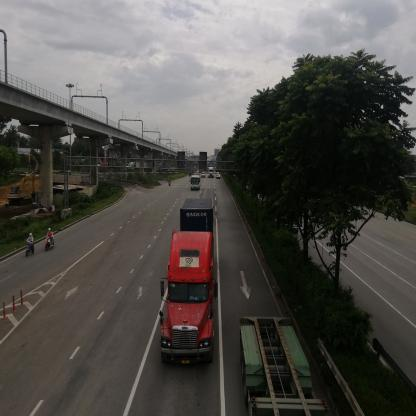bus: (190, 177, 201, 191)
container: (162, 200, 215, 365)
motorbike: (25, 234, 35, 257), (46, 226, 54, 253), (168, 180, 171, 186)
